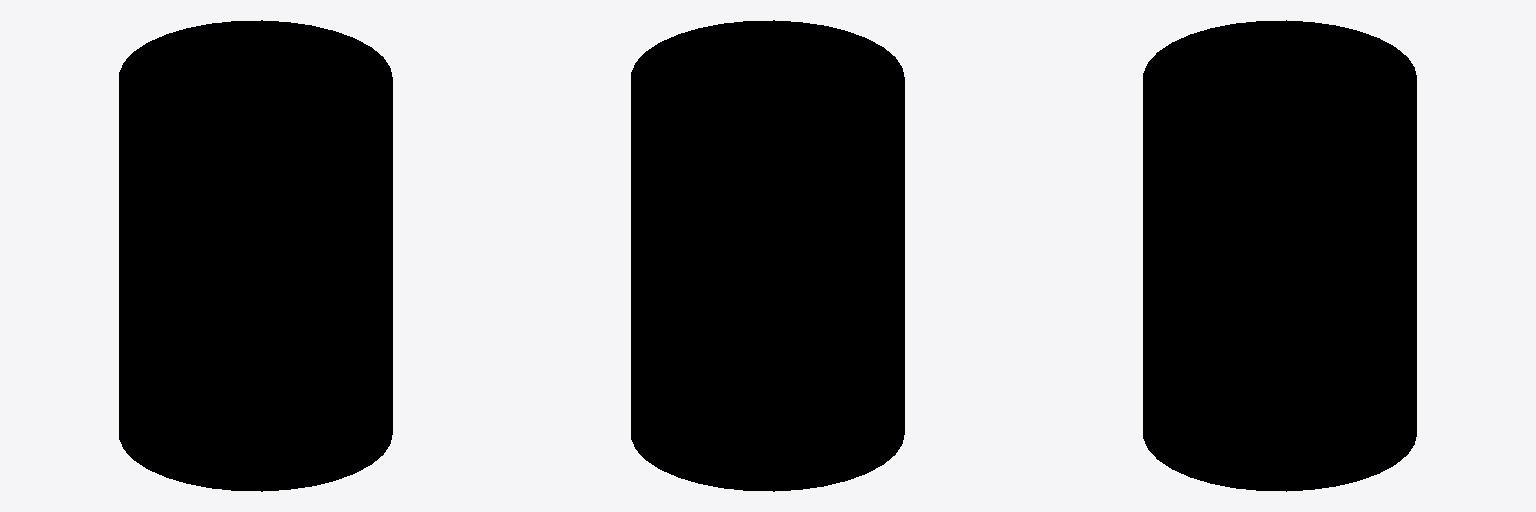
The robot description file, URDF, robot "圆柱体":
<?xml version="1.0" encoding="utf-8"?>
<!-- This URDF was automatically created by SolidWorks to URDF Exporter! Originally created by Stephen Brawner ([email redacted]) 
     Commit Version: 1.6.0-4-g7f85cfe  Build Version: 1.6.7995.38578
     For more information, please see http://wiki.ros.org/sw_urdf_exporter -->
<robot
  name="圆柱体">
  <link
    name="base_link">
    <inertial>
      <origin
        xyz="0.0538246841719595 0.0616494833345441 0.0577315499184602"
        rpy="0 0 0" />
      <mass
        value="0.38484510006475" />
      <inertia
        ixx="0.000438563061948788"
        ixy="-1.30147654179613E-36"
        ixz="-4.07831529249908E-53"
        iyy="0.000235717623789659"
        iyz="5.42066823341482E-36"
        izz="0.000438563061948788" />
    </inertial>
    <visual>
      <origin
        xyz="0 0 0"
        rpy="0 0 0" />
      <geometry>
        <mesh
          filename="package://圆柱体/meshes/base_link.STL" />
      </geometry>
      <material
        name="cylinder">
        <color
          rgba="0 0 0 1" />
      </material>
    </visual>
    <collision>
      <origin
        xyz="0 0 0"
        rpy="0 0 0" />
      <geometry>
        <mesh
          filename="package://圆柱体/meshes/base_link.STL" />
      </geometry>
    </collision>
  </link>
</robot>

--- What the picture shows (computed from the rendered views, not written in the file) ---
The picture shows the robot from 3 angles, left to right: view 1: azimuth 30°, elevation 25°; view 2: azimuth 150°, elevation 25°; view 3: azimuth 270°, elevation 25°; orthographic projection.
Model 圆柱体 with 1 links and 0 joints (none), rooted at base_link, posed all joints at 0.
Visible links, largest first — view 1: base_link; view 2: base_link; view 3: base_link.
Boxes of the visible links, x1,y1,x2,y2 form: base_link: (119, 20, 392, 491); base_link: (631, 20, 904, 491); base_link: (1143, 20, 1416, 491).
Size in the robot's own frame: 0.0699 by 0.07 by 0.1 metres.
Meshes: 1 distinct files referenced, 1 mesh visuals loaded (1 binary STL).
